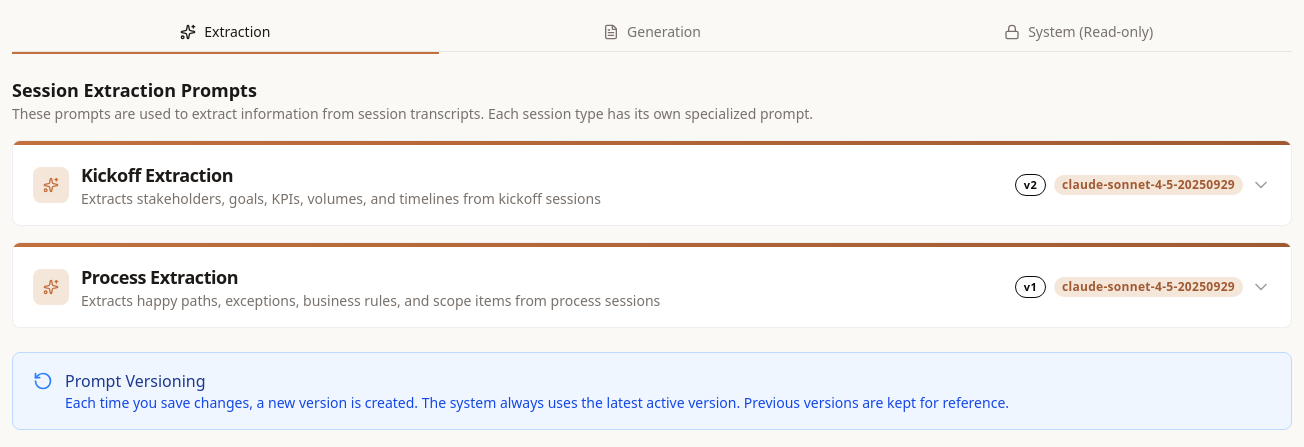
PromptManager › shows generation prompts on the Generation tab
Click the tab "Generation".
click(652, 33)  # box [439,12,865,54]
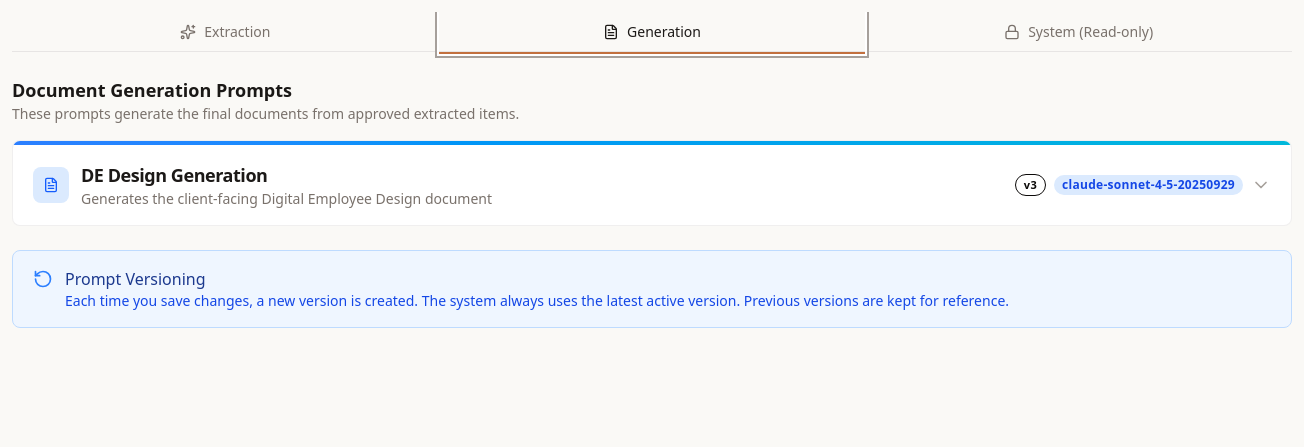
Expected: the heading "Document Generation Prompts" is shown, [12,78,292,102]
Expected: the heading "DE Design Generation" is shown, [81,163,268,187]
